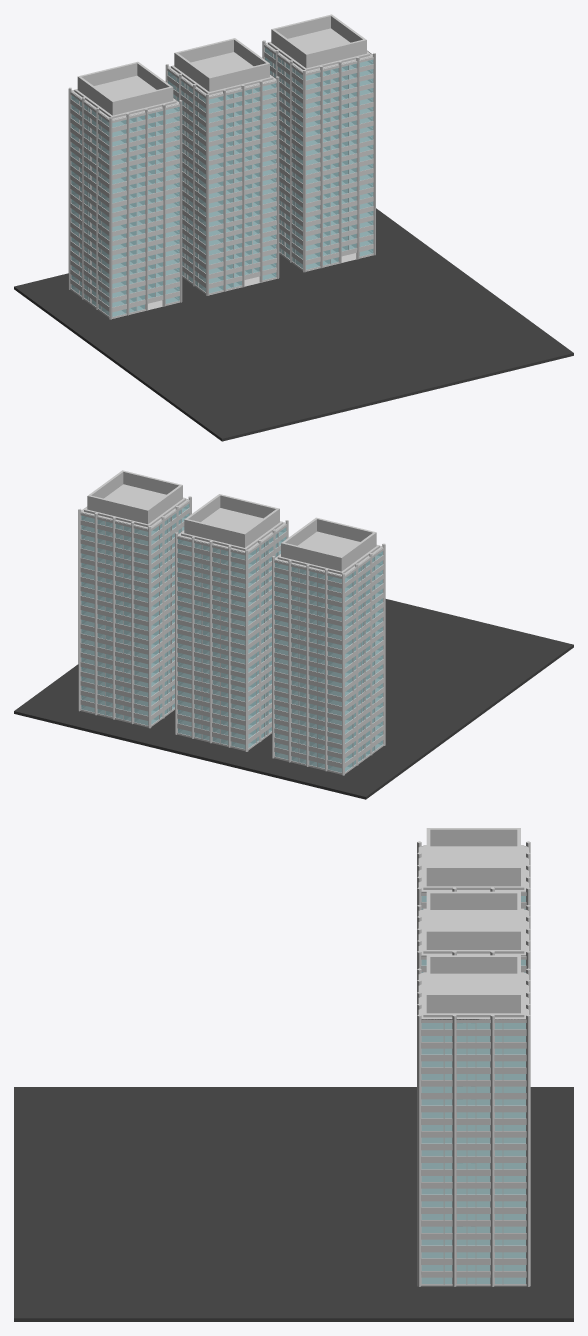
Rendered from tower_blocks_in.glb.
3 views of the same model, one above another, from view 1: azimuth 30°, elevation 25°; view 2: azimuth 150°, elevation 25°; view 3: azimuth 270°, elevation 25° (orthographic). The views are drawn at different scales.
Parts seen in each view (by area): view 1: Ground, Pillars.002, Roof.002, Roof, Roof.001, Pillars, Pillars.001, Walls+Floor.019, Walls+Floor.059, Walls+Floor.039, Walls+Floor.040, Walls+Floor.053 (+58 smaller); view 2: Ground, Pillars.002, Pillars.001, Pillars, Roof, Roof.001, Roof.002, Walls+Floor.019, Walls+Floor.039, Walls+Floor.059, Walls+Floor.040, Walls+Floor.054 (+58 smaller); view 3: Ground, Roof, Roof.002, Roof.001, Pillars.001, Walls+Floor.039, Walls+Floor.030, Walls+Floor.023, Walls+Floor.034, Walls+Floor.038, Walls+Floor.031, Walls+Floor.020 (+29 smaller).
Part boxes in pixels (x1,y1,x2,y2): Ground: [14, 208, 573, 441]; Pillars.002: [68, 87, 182, 319]; Roof.002: [71, 61, 179, 120]; Roof: [168, 38, 276, 96]; Roof.001: [265, 14, 372, 72]; Pillars: [165, 64, 279, 295]; Pillars.001: [262, 40, 375, 272]; Walls+Floor.019: [167, 66, 276, 106]; Walls+Floor.059: [70, 90, 179, 130]; Walls+Floor.039: [264, 42, 373, 82]; Walls+Floor.040: [70, 272, 179, 309]; Walls+Floor.053: [70, 149, 179, 186]; Ground: [14, 599, 573, 799]; Pillars.002: [272, 543, 385, 775]; Pillars.001: [78, 496, 191, 728]; Pillars: [175, 520, 288, 751]; Roof: [178, 494, 285, 552]; Roof.001: [81, 470, 189, 528]; Roof.002: [275, 517, 382, 575]; Walls+Floor.019: [177, 522, 286, 562]; Walls+Floor.039: [80, 499, 189, 538]; Walls+Floor.059: [274, 546, 383, 586]; Walls+Floor.040: [274, 728, 383, 765]; Walls+Floor.054: [274, 595, 383, 633]; Ground: [14, 1087, 573, 1321]; Roof: [419, 891, 527, 955]; Roof.002: [419, 828, 527, 891]; Roof.001: [419, 955, 527, 1018]; Pillars.001: [417, 968, 530, 1286]; Walls+Floor.039: [418, 974, 528, 1032]; Walls+Floor.030: [421, 1134, 526, 1147]; Walls+Floor.023: [421, 1223, 526, 1236]; Walls+Floor.034: [421, 1083, 526, 1096]; Walls+Floor.038: [421, 1032, 526, 1045]; Walls+Floor.031: [421, 1121, 526, 1134]; Walls+Floor.020: [421, 1261, 526, 1274].
Size of the model in its own units: 109 by 64.11 by 112.
